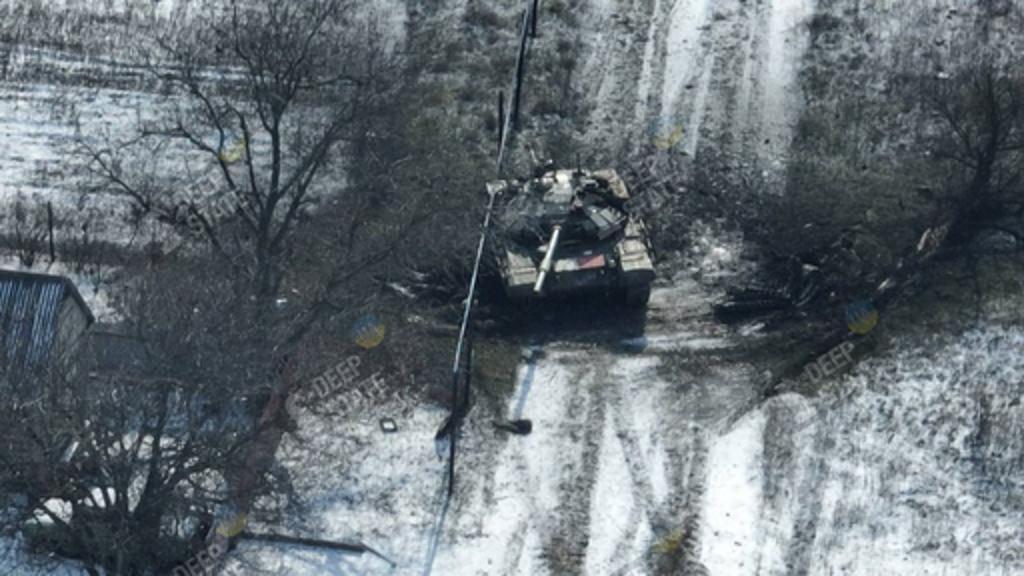TANK: (474, 148, 666, 324)
